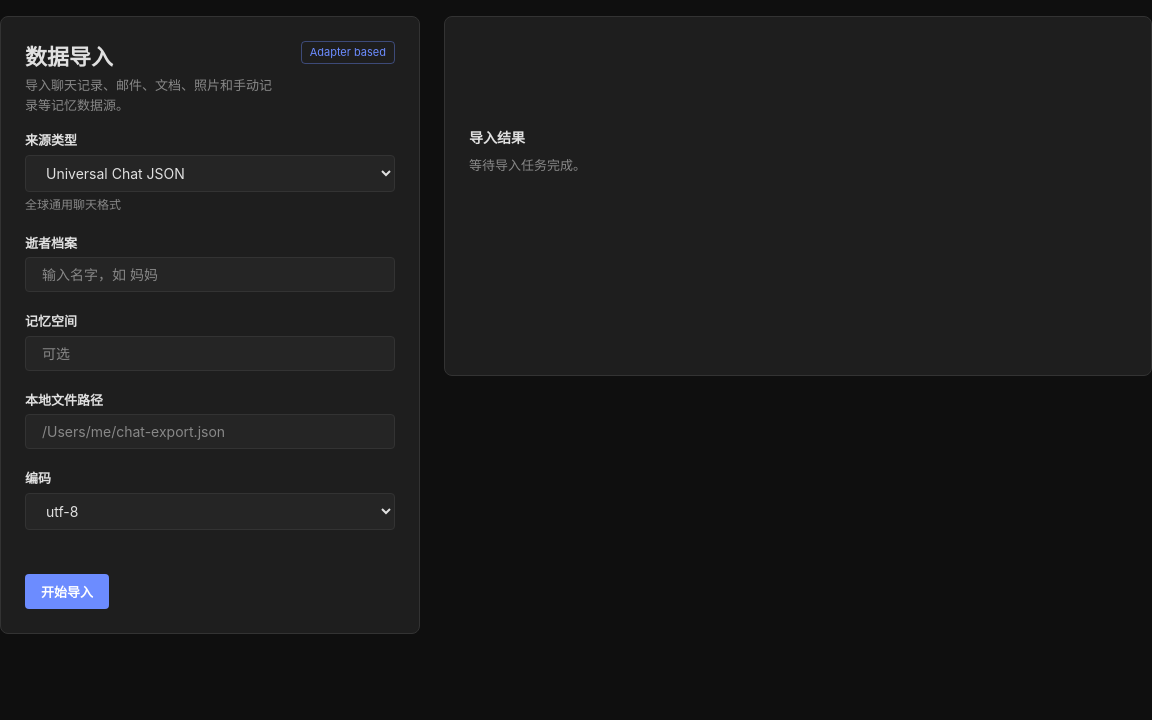
Test: Import page › validates required profile and file path before importing
Click the button "开始导入". click: (67, 591)
box: x1=25 y1=574 x2=109 y2=608
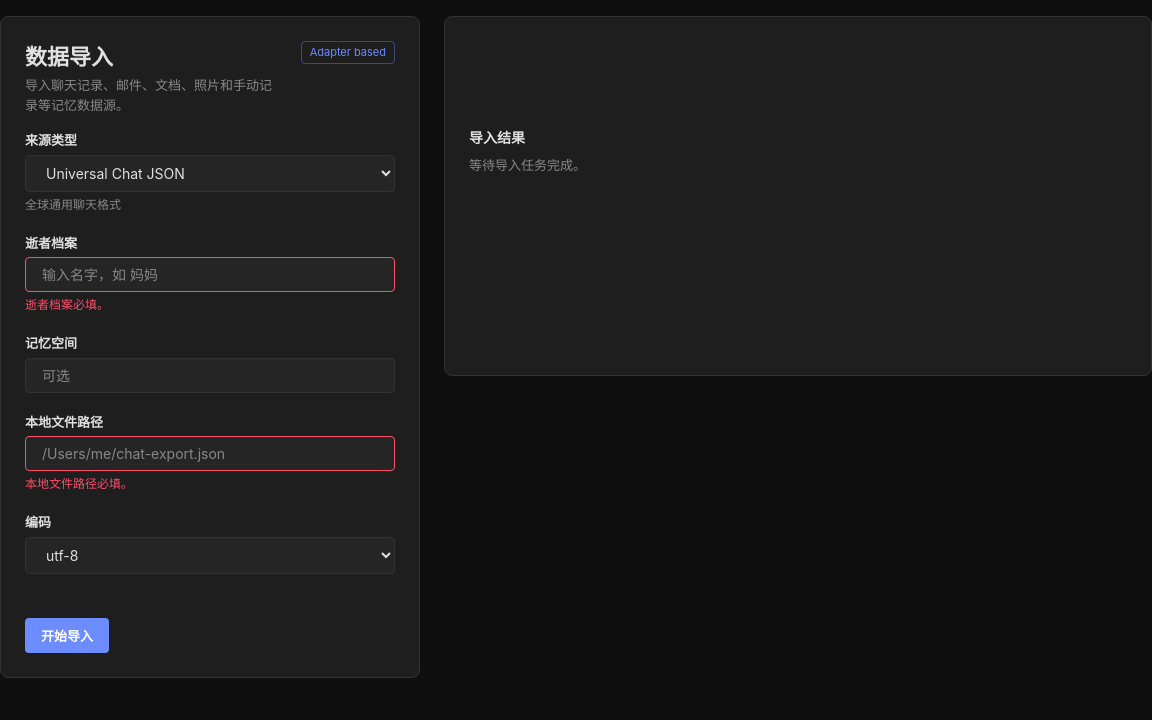
expect the text "逝者档案必填。" is shown: met, box x1=25 y1=297 x2=109 y2=312
expect the text "本地文件路径必填。" is shown: met, box x1=25 y1=476 x2=133 y2=491
